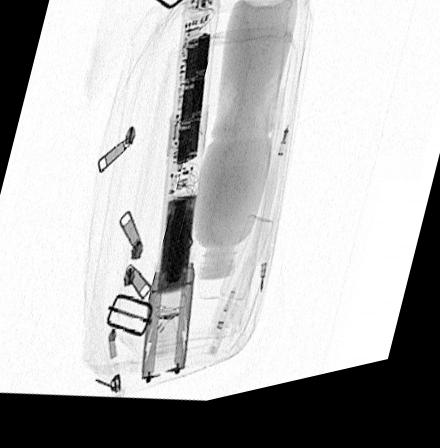Baton: (140, 0, 222, 390)
